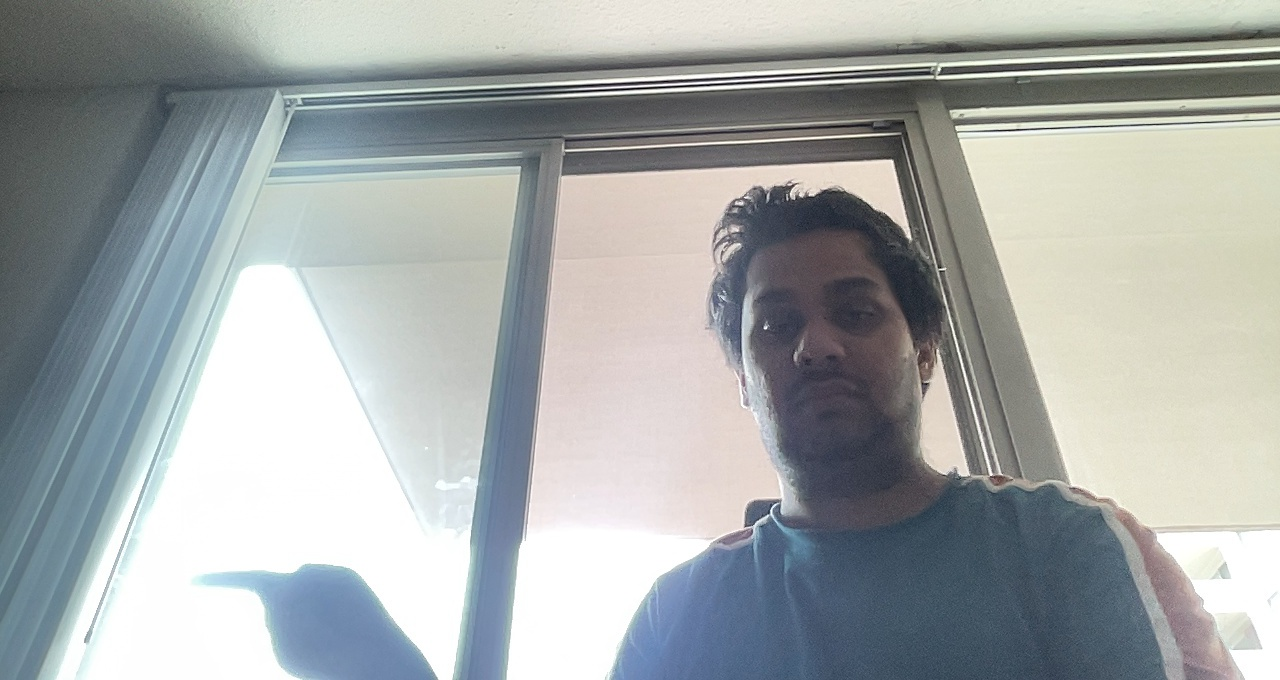fingerright: (181, 554, 402, 677)
